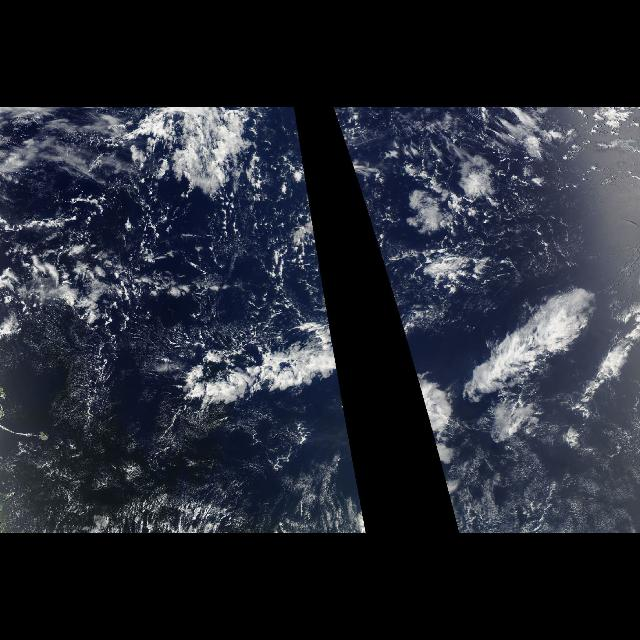Fish: (383, 263, 639, 512), (128, 263, 362, 512)
Gravel: (108, 192, 232, 270)
Sugar: (7, 428, 181, 532), (438, 449, 640, 533), (304, 459, 368, 533)
